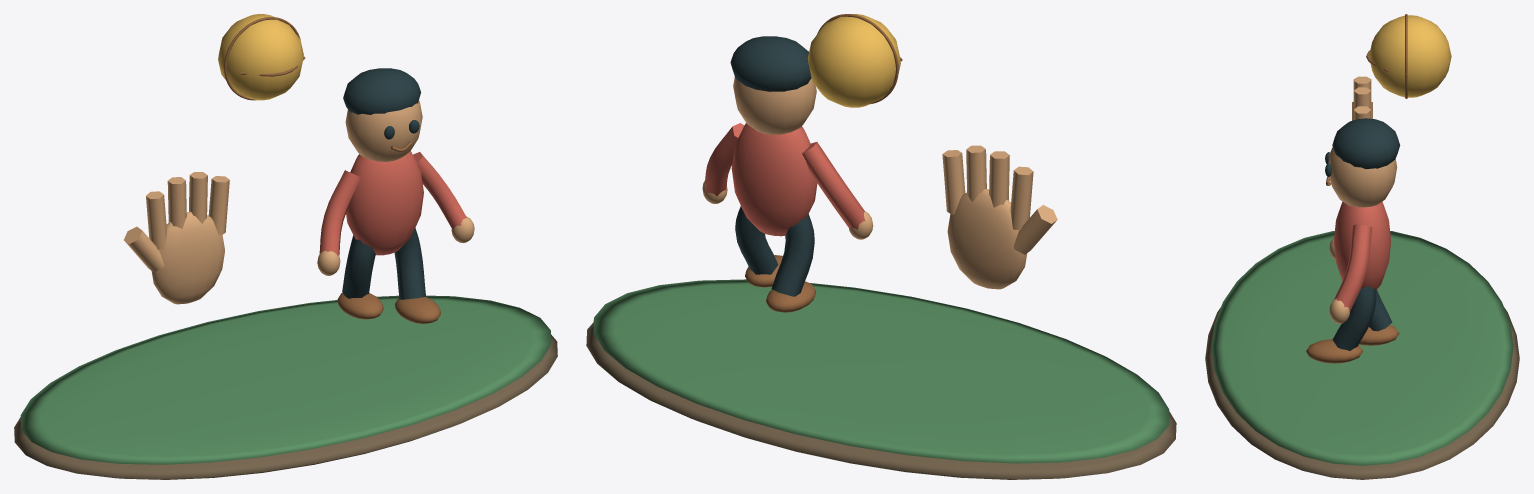
The model's file is complete-third-hand-village-bump.glb.
3 views of the same model, side by side, from view 1: azimuth 30°, elevation 25°; view 2: azimuth 150°, elevation 25°; view 3: azimuth 270°, elevation 25° (orthographic). The views are drawn at different scales.
Parts seen in each view (by area): view 1: complete-third-hand-village-bump_surface_01, complete-third-hand-village-bump_surface_02, complete-third-hand-village-bump_surface_00, complete-third-hand-village-bump_surface_05, complete-third-hand-village-bump_surface_03, complete-third-hand-village-bump_surface_06, complete-third-hand-village-bump_surface_04; view 2: complete-third-hand-village-bump_surface_01, complete-third-hand-village-bump_surface_02, complete-third-hand-village-bump_surface_00, complete-third-hand-village-bump_surface_05, complete-third-hand-village-bump_surface_03, complete-third-hand-village-bump_surface_06, complete-third-hand-village-bump_surface_04; view 3: complete-third-hand-village-bump_surface_01, complete-third-hand-village-bump_surface_00, complete-third-hand-village-bump_surface_06, complete-third-hand-village-bump_surface_03, complete-third-hand-village-bump_surface_05, complete-third-hand-village-bump_surface_02, complete-third-hand-village-bump_surface_04.
Part boxes in pixels (x1,y1,x2,y2): complete-third-hand-village-bump_surface_01: [20, 295, 551, 464]; complete-third-hand-village-bump_surface_02: [124, 100, 474, 304]; complete-third-hand-village-bump_surface_00: [14, 334, 557, 479]; complete-third-hand-village-bump_surface_05: [319, 151, 466, 255]; complete-third-hand-village-bump_surface_03: [342, 68, 425, 299]; complete-third-hand-village-bump_surface_06: [218, 14, 303, 100]; complete-third-hand-village-bump_surface_04: [224, 17, 440, 323]; complete-third-hand-village-bump_surface_01: [593, 279, 1169, 463]; complete-third-hand-village-bump_surface_02: [702, 77, 1057, 289]; complete-third-hand-village-bump_surface_00: [586, 322, 1176, 479]; complete-third-hand-village-bump_surface_05: [705, 123, 865, 236]; complete-third-hand-village-bump_surface_03: [730, 36, 814, 296]; complete-third-hand-village-bump_surface_06: [807, 14, 900, 107]; complete-third-hand-village-bump_surface_04: [745, 14, 902, 312]; complete-third-hand-village-bump_surface_01: [1211, 231, 1513, 465]; complete-third-hand-village-bump_surface_00: [1205, 307, 1519, 479]; complete-third-hand-village-bump_surface_06: [1369, 15, 1451, 97]; complete-third-hand-village-bump_surface_03: [1325, 118, 1400, 350]; complete-third-hand-village-bump_surface_05: [1333, 201, 1390, 311]; complete-third-hand-village-bump_surface_02: [1328, 76, 1397, 323]; complete-third-hand-village-bump_surface_04: [1306, 14, 1407, 363].
Size of the model in its own units: 4.56 by 3.12 by 2.5.
